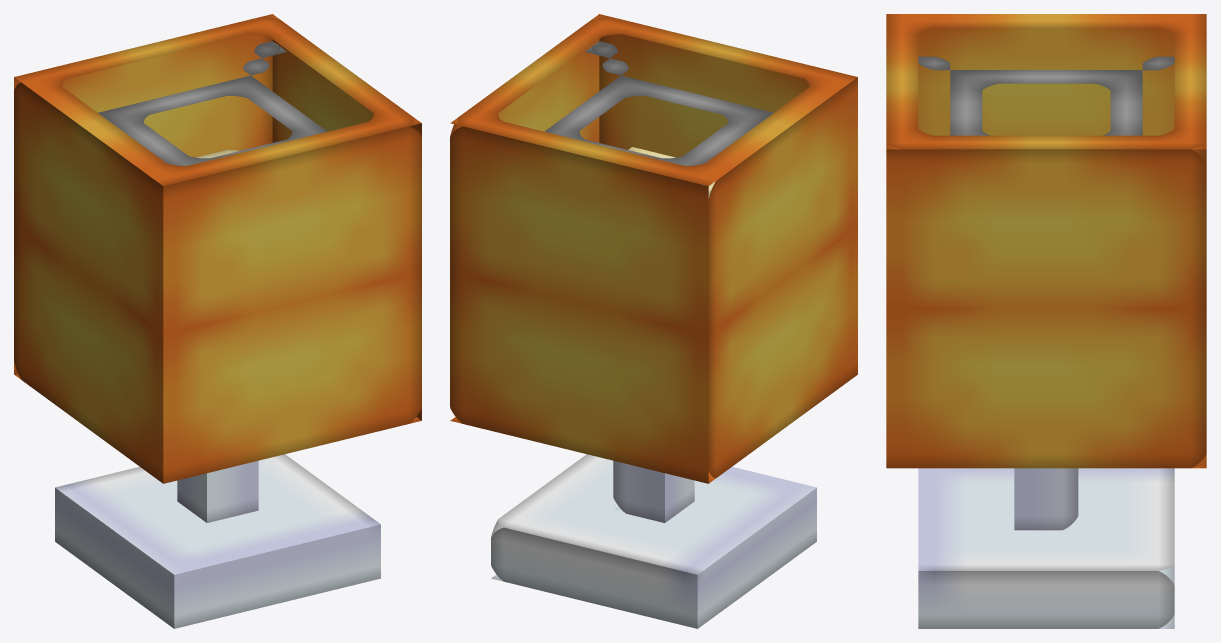
File: lamp_167.obj
The picture shows the model from 3 angles, left to right: view 1: azimuth 30°, elevation 25°; view 2: azimuth 150°, elevation 25°; view 3: azimuth 270°, elevation 25°; orthographic projection. The views are drawn at different scales.
Size of the model in its own units: 0.6251 by 1.06 by 0.6251.
Materials: 1 (1 with a texture image).
